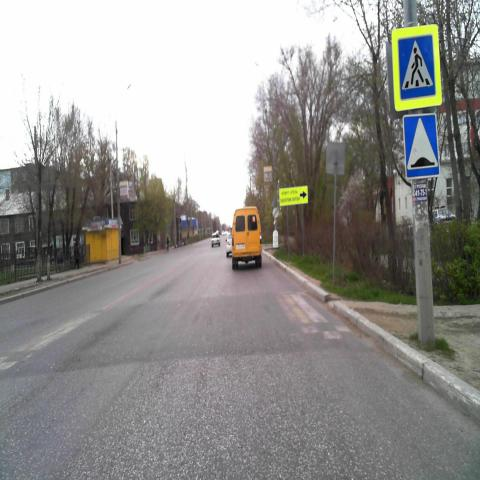5_19_1: (392, 25, 441, 111)
